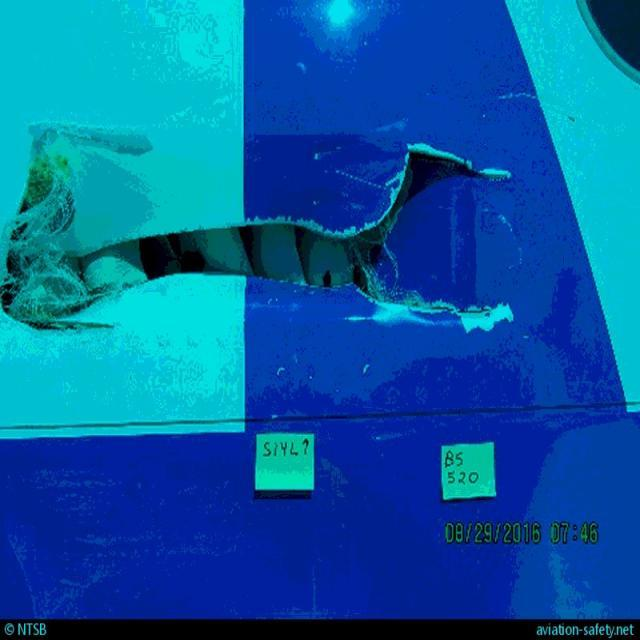crack: (412, 140, 520, 186), (400, 288, 503, 329)
